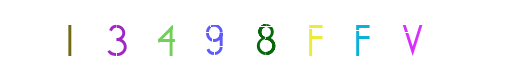3: (168, 0, 248, 80)
4: (175, 0, 255, 80)
8: (215, 0, 295, 80)
9: (180, 0, 260, 80)
F: (215, 0, 295, 80), (273, 0, 353, 80)
I: (132, 0, 212, 80)
V: (320, 0, 400, 80)
